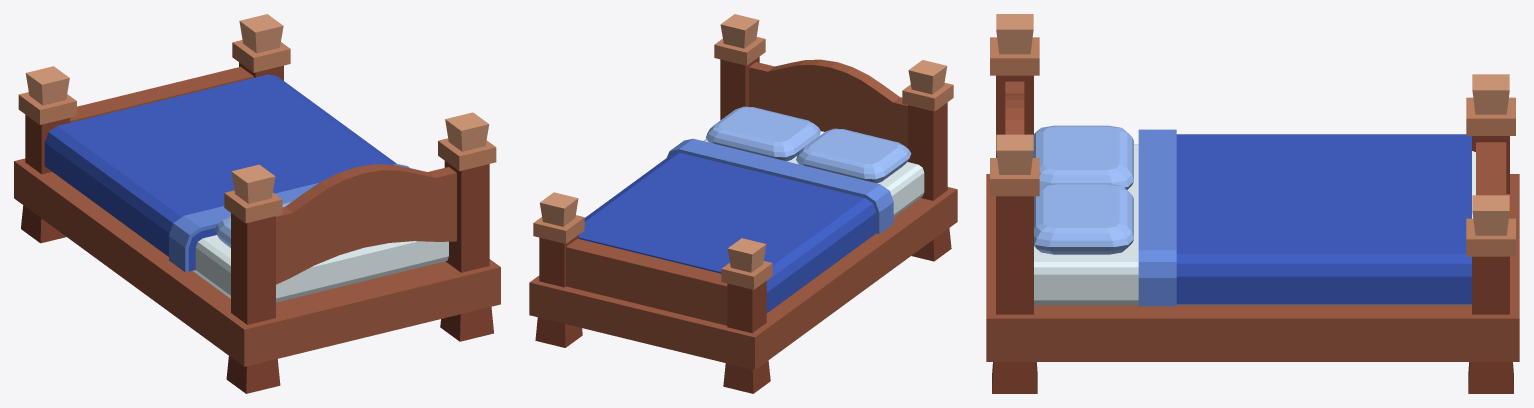
The model's file is Bed.fbx.
3 renders of one model, left to right at view 1: azimuth 30°, elevation 25°; view 2: azimuth 150°, elevation 25°; view 3: azimuth 270°, elevation 25°, orthographic. The views are drawn at different scales.
Visible parts, largest first — view 1: Bed; view 2: Bed; view 3: Bed.
Part boxes in pixels (x1=…): Bed: x1=14, y1=14, x2=500, y2=393; Bed: x1=529, y1=14, x2=957, y2=393; Bed: x1=986, y1=14, x2=1519, y2=393.
Bounding box in the file's own units: 1.8 × 2.8 × 1.4.
